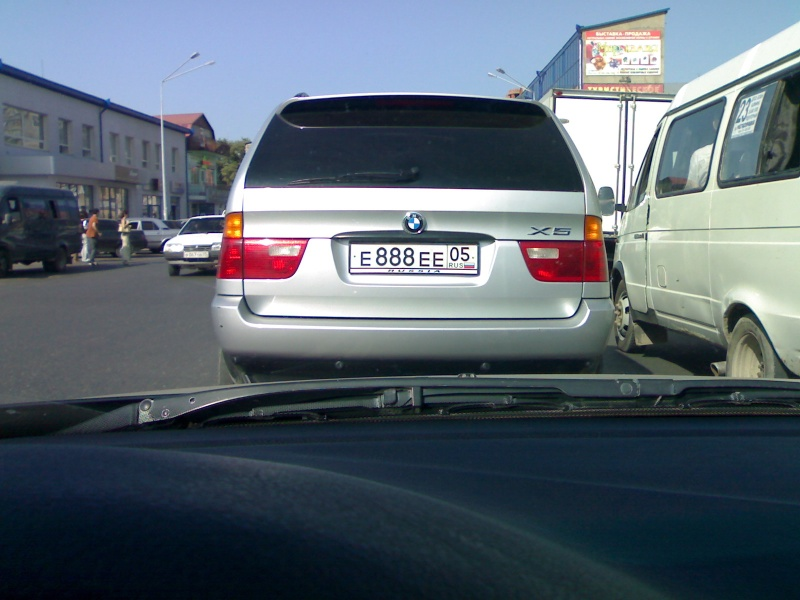car: (212, 94, 615, 378), (610, 18, 800, 377), (1, 185, 83, 275), (161, 215, 224, 277)
person: (86, 208, 103, 267), (118, 209, 133, 267)
plate: (350, 244, 476, 268)
